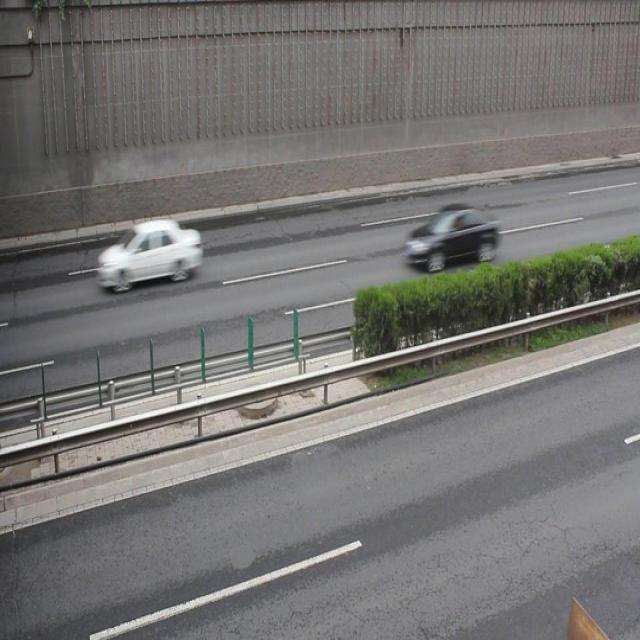car: (98, 218, 202, 293), (403, 202, 498, 271)
